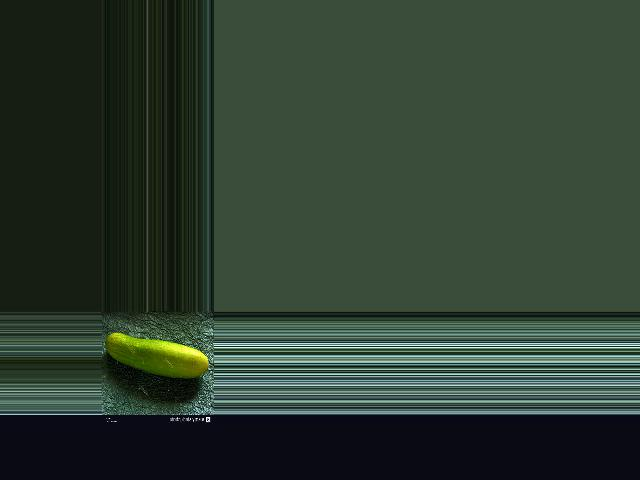cucumber: (104, 332, 208, 378)
